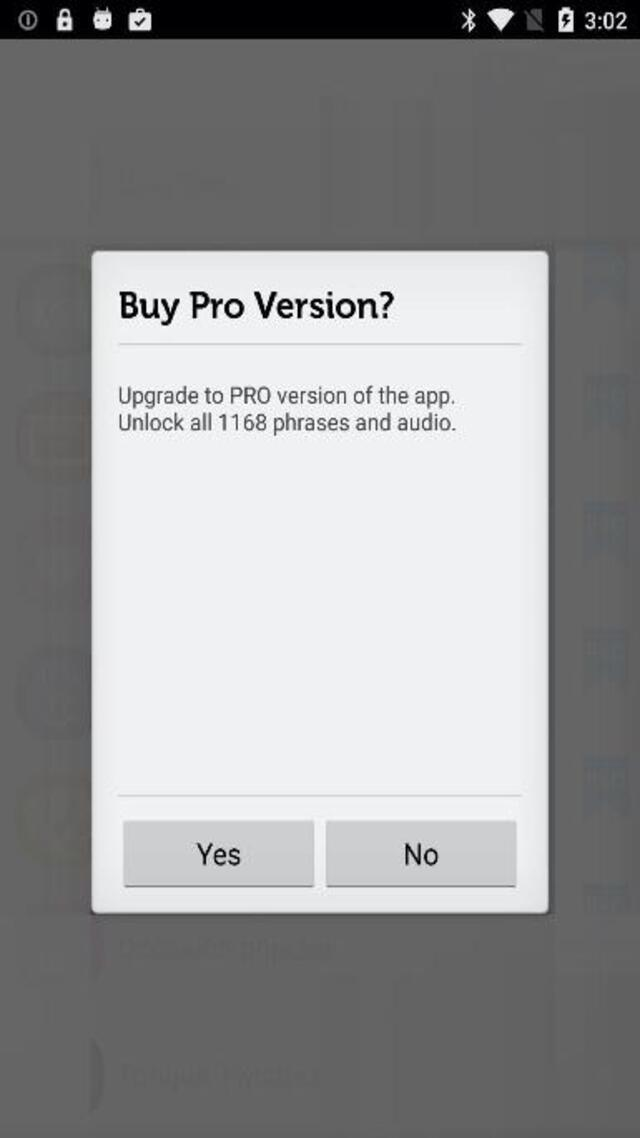Text: (119, 290, 393, 326), (112, 383, 454, 409), (111, 412, 462, 437), (192, 838, 242, 870), (397, 840, 442, 870)
TextButton: (326, 820, 516, 886), (124, 820, 314, 886)
